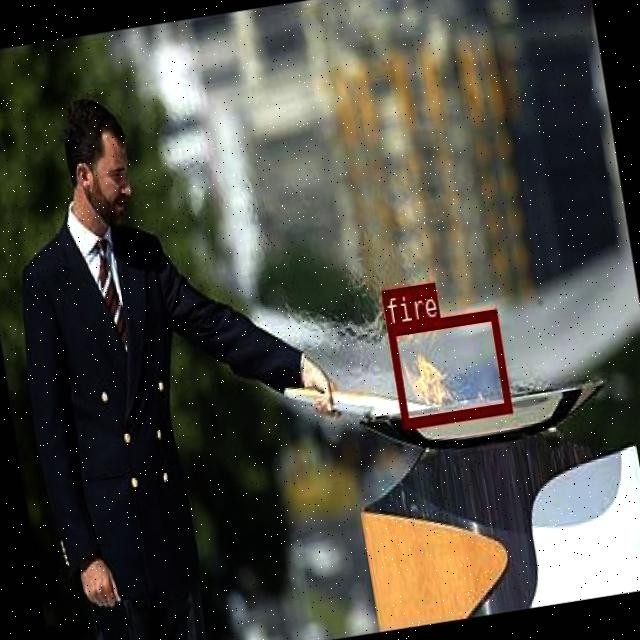fire: (387, 308, 510, 427)
